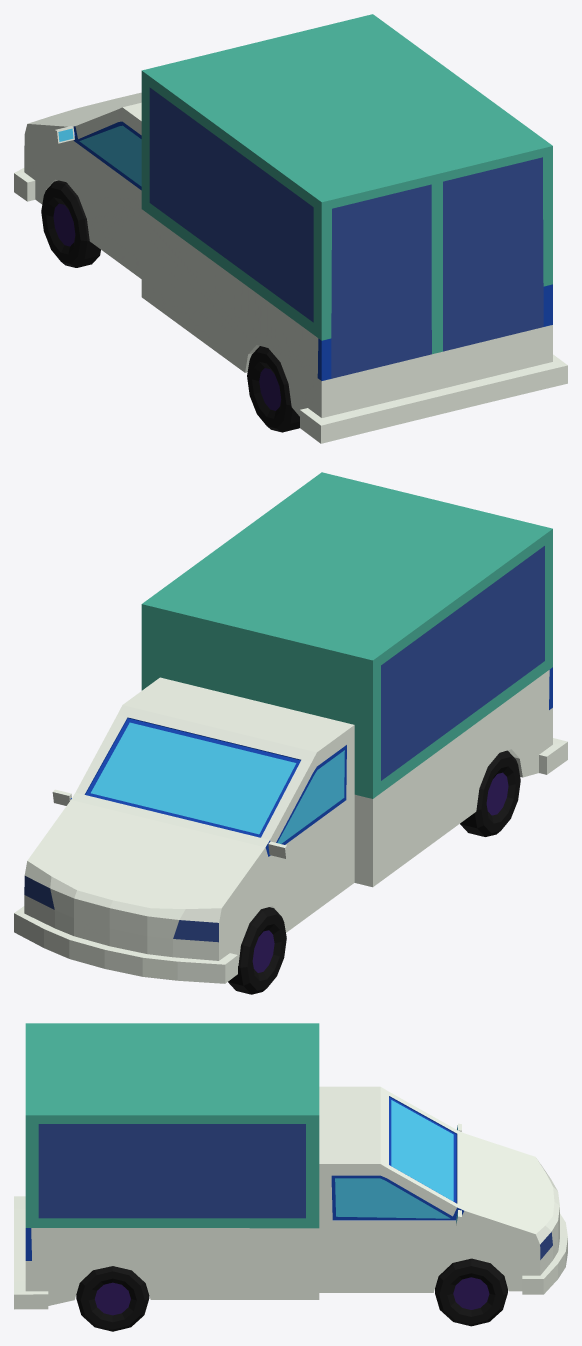
File: Truck02.fbx
3 views of the same model, one above another, from view 1: azimuth 30°, elevation 25°; view 2: azimuth 150°, elevation 25°; view 3: azimuth 270°, elevation 25° (orthographic). The views are drawn at different scales.
Visible parts, largest first — view 1: Truck02; view 2: Truck02; view 3: Truck02.
Part boxes in pixels (bbox=[...]): Truck02: bbox=[14, 14, 567, 443]; Truck02: bbox=[14, 472, 567, 994]; Truck02: bbox=[14, 1023, 567, 1331].
Bounding box in the file's own units: 222 × 229 × 528.
